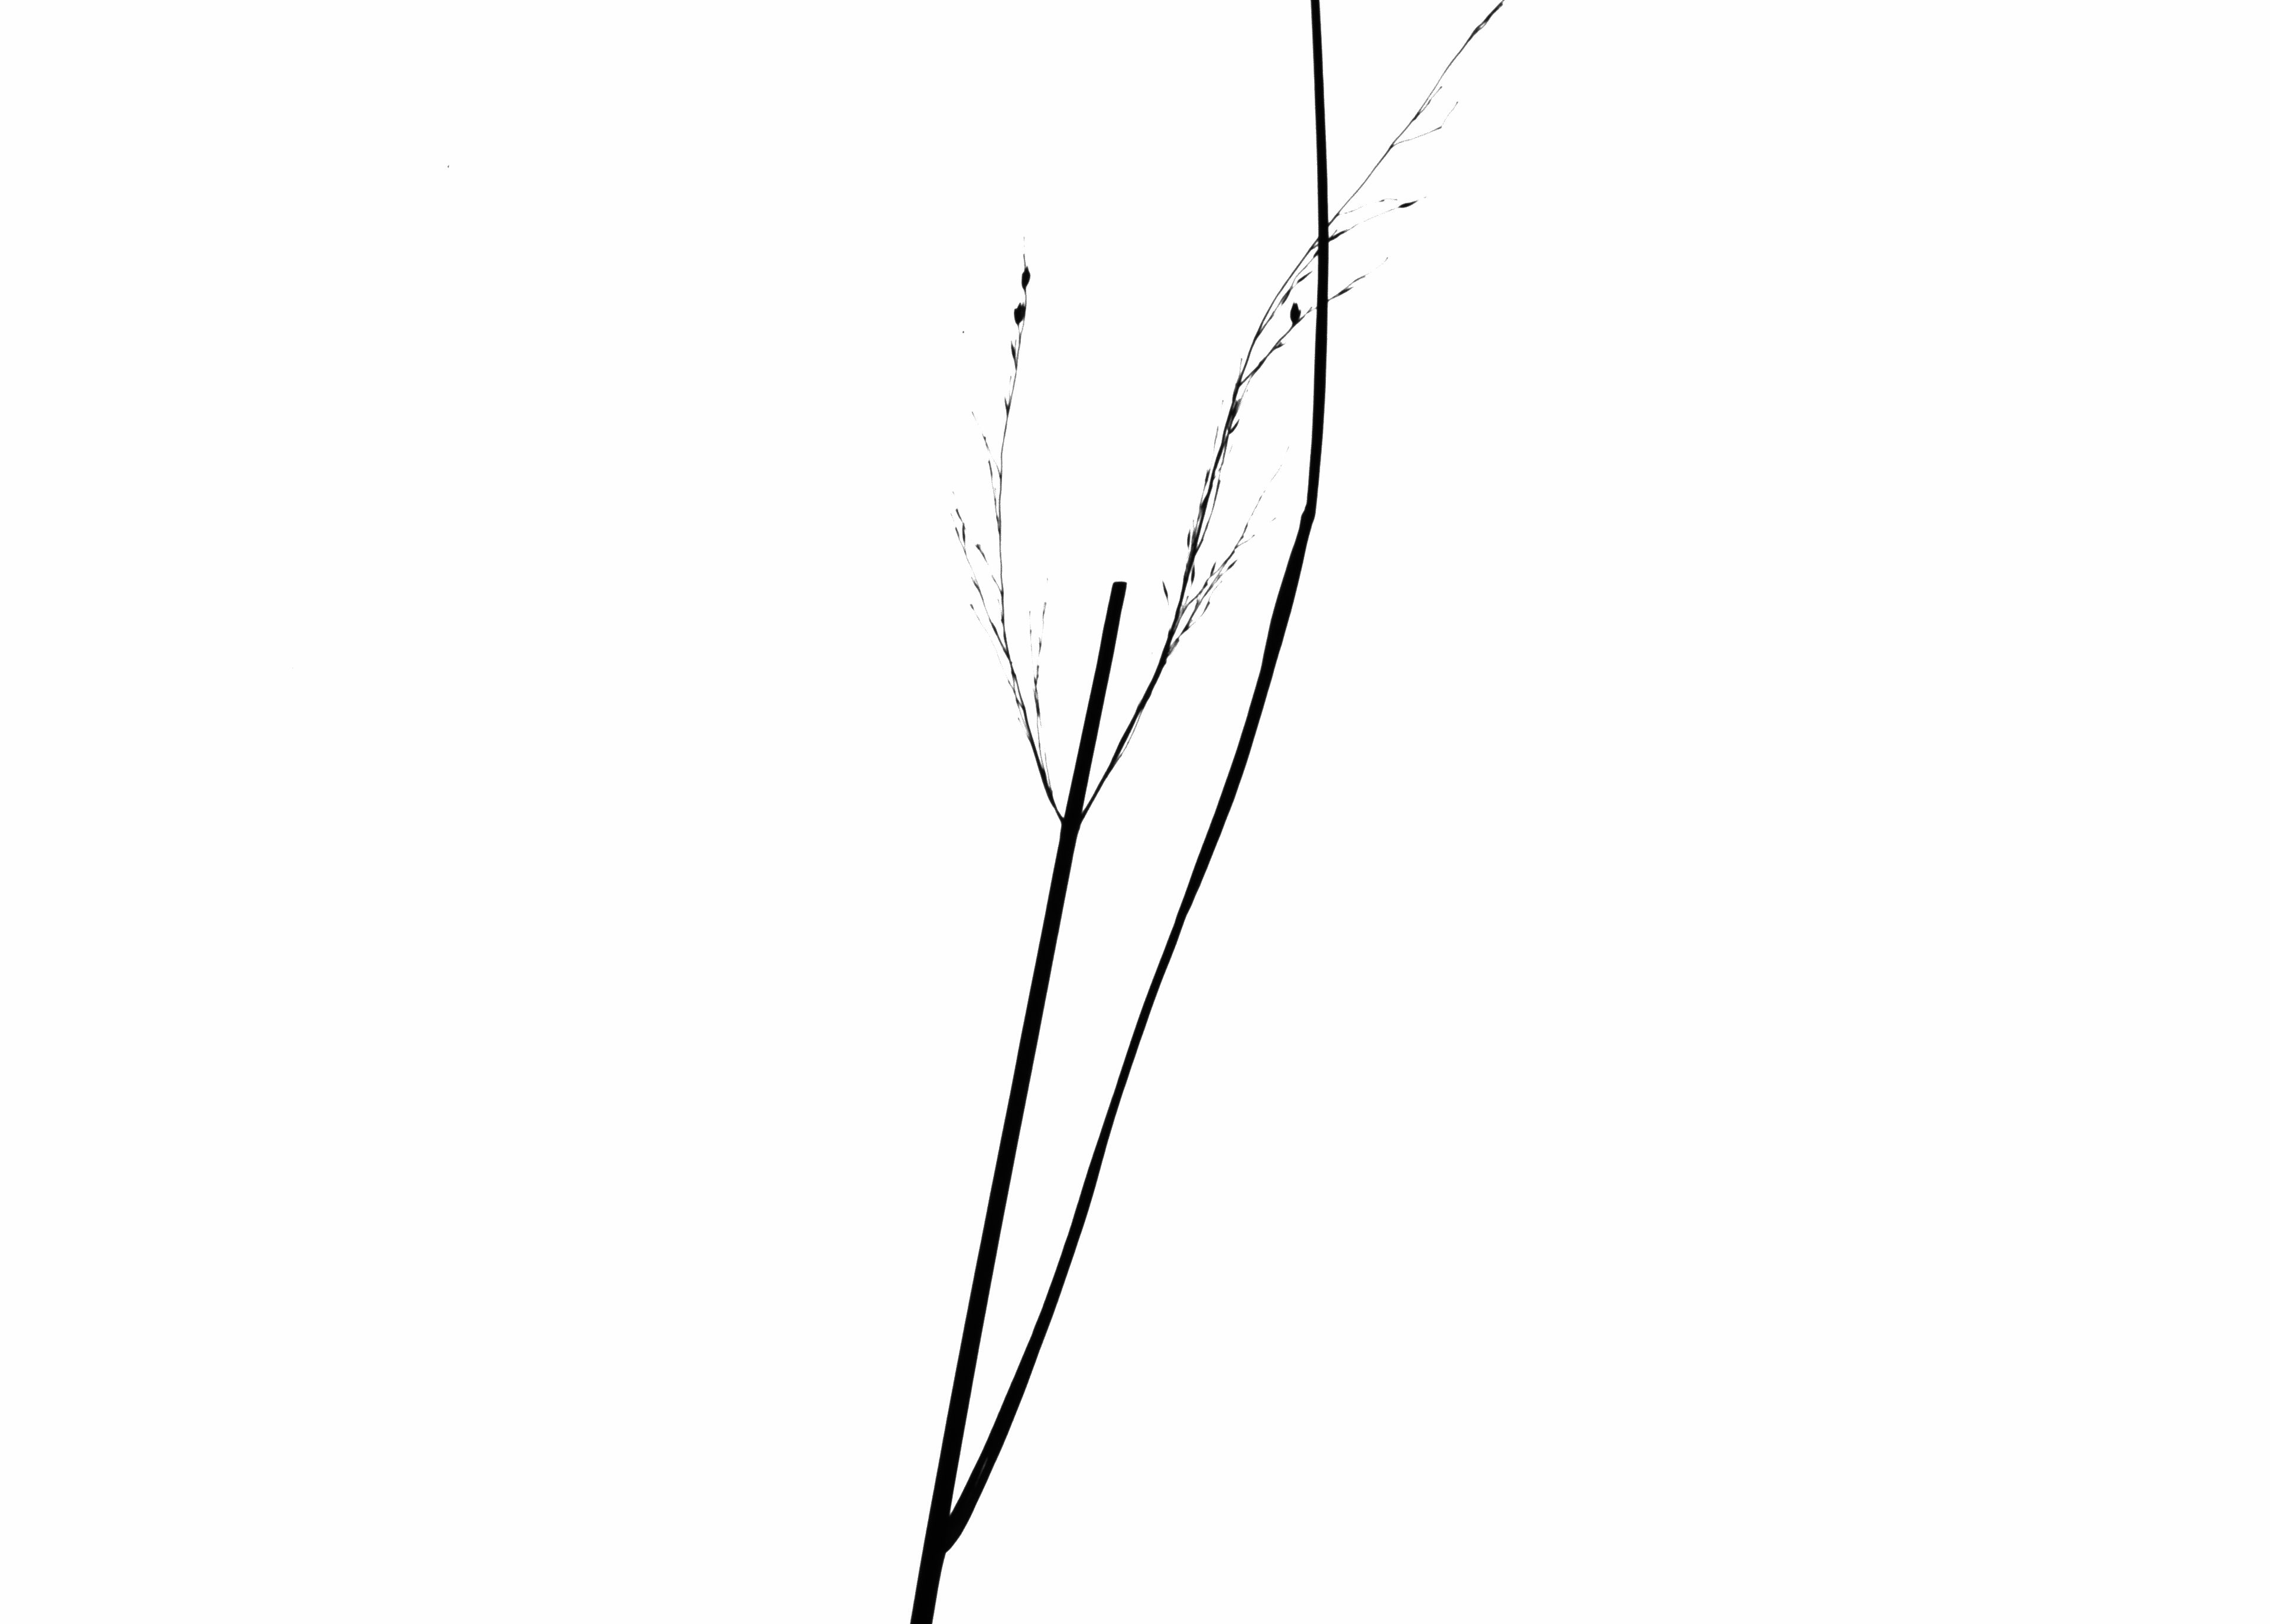seed: (1282, 294, 1306, 336), (1015, 258, 1039, 292), (1006, 295, 1032, 322)
